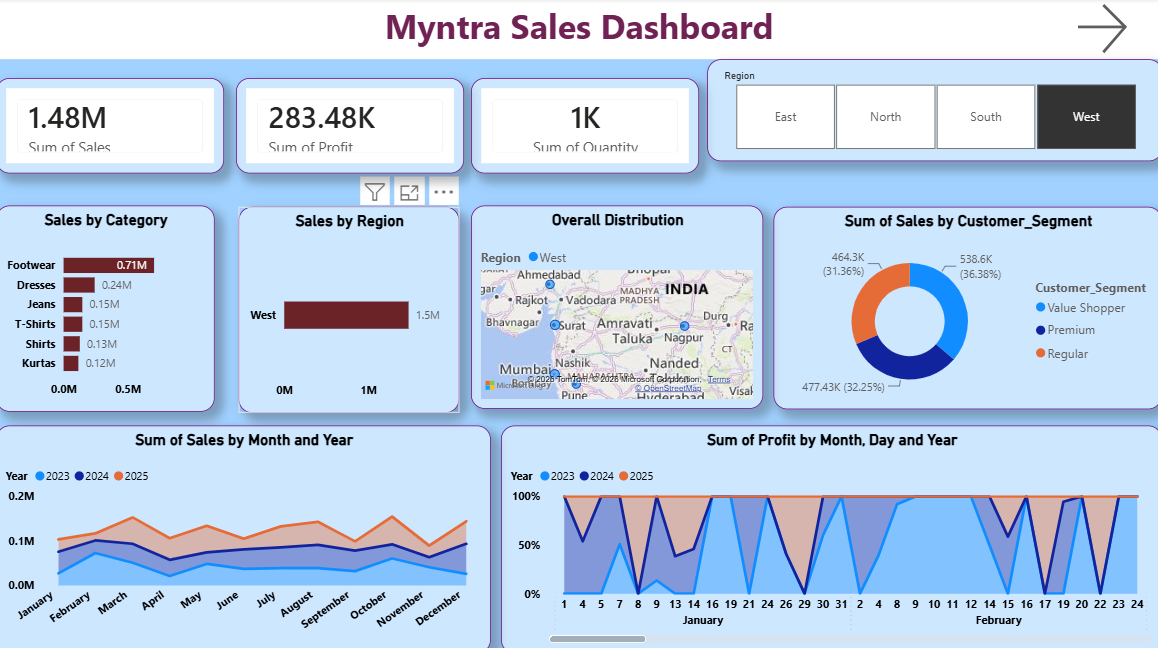

What the dashboard file says about the page in this screenshot:
{"tool":"powerbi","page":{"name":"myntra dashboard","canvas":[1280,720],"ordinal":0},"visuals":[{"type":"clusteredBarChart","title":"Sales by Category","fields":{"Category":["sales_myn.Category"],"Y":["Sum(sales_myn.Sales)"]},"box":[0,227.9,240,226.2],"z":0},{"type":"clusteredBarChart","title":"Sales by Region","fields":{"Category":["sales_myn.Region"],"Y":["Sum(sales_myn.Sales)"]},"box":[266.3,229.1,242.5,226.2],"z":1000},{"type":"stackedAreaChart","fields":{"Category":["sales_myn.Order_Date.Variation.Date Hierarchy.Month","sales_myn.Order_Date.Variation.Date Hierarchy.Day"],"Y":["Sum(sales_myn.Sales)"],"Series":["sales_myn.Order_Date.Variation.Date Hierarchy.Year"]},"box":[0,469.8,543.3,250],"z":2000},{"type":"hundredPercentStackedAreaChart","fields":{"Category":["sales_myn.Order_Date.Variation.Date Hierarchy.Month","sales_myn.Order_Date.Variation.Date Hierarchy.Day"],"Series":["sales_myn.Order_Date.Variation.Date Hierarchy.Year"],"Y":["Sum(sales_myn.Profit)"]},"box":[554.7,469.8,725.6,250],"z":3000},{"type":"textbox","box":[0,0,1280.3,67.2],"z":4000},{"type":"cardVisual","fields":{"Data":["Sum(sales_myn.Sales)"]},"box":[0,88.3,250,105],"z":5000},{"type":"cardVisual","fields":{"Data":["Sum(sales_myn.Profit)"]},"box":[263.3,88.3,250,105],"z":6000},{"type":"cardVisual","fields":{"Data":["Sum(sales_myn.Quantity)"]},"box":[521.4,87.8,250,105],"z":7000},{"type":"actionButton","box":[1180.3,0,99.7,67.2],"z":8000},{"type":"slicer","fields":{"Values":["sales_myn.Region"]},"box":[780.2,67.4,500,111.6],"z":9000},{"type":"map","title":"Overall Distribution","fields":{"Category":["sales_myn.City"],"Series":["sales_myn.Region"],"Size":["Sum(sales_myn.Sales)"]},"box":[520.9,227.9,320.9,223.3],"z":10000},{"type":"donutChart","fields":{"Category":["sales_myn.Customer_Segment"],"Y":["Sum(sales_myn.Sales)"]},"box":[853.5,229.1,426.7,222.1],"z":11000}]}

Visuals, with their boxes in screenshot pixels (x1, y1, x2, y2), scaled from the page's 1280x720 canvas onto the 1158x648 screenshot:
"Sales by Category" clusteredBarChart: BBox(0, 205, 217, 409)
"Sales by Region" clusteredBarChart: BBox(241, 206, 460, 410)
stackedAreaChart - sales_myn.Order_Date.Variation.Date Hierarchy.Month x sales_myn.Order_Date.Variation.Date Hierarchy.Day: BBox(0, 423, 492, 647)
hundredPercentStackedAreaChart - sales_myn.Order_Date.Variation.Date Hierarchy.Month x sales_myn.Order_Date.Variation.Date Hierarchy.Day: BBox(502, 423, 1157, 647)
textbox: BBox(0, 0, 1157, 60)
cardVisual - Sum(sales_myn.Sales): BBox(0, 79, 226, 174)
cardVisual - Sum(sales_myn.Profit): BBox(238, 79, 464, 174)
cardVisual - Sum(sales_myn.Quantity): BBox(472, 79, 698, 174)
actionButton: BBox(1068, 0, 1157, 60)
slicer - sales_myn.Region: BBox(706, 61, 1157, 161)
"Overall Distribution" map: BBox(471, 205, 762, 406)
donutChart - sales_myn.Customer_Segment x Sum(sales_myn.Sales): BBox(772, 206, 1157, 406)
